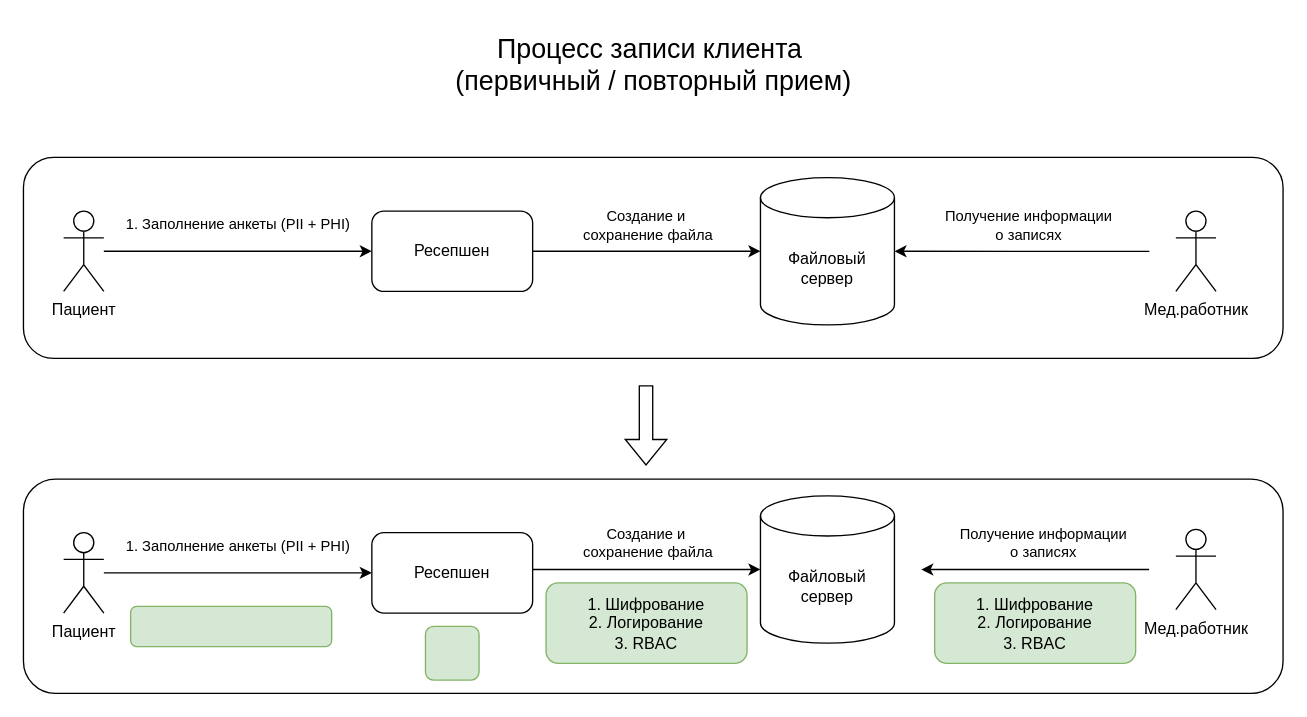
Some shapes in this 1307 by 717 pixel diagram are drawn without their labels. Here are the shapes that lost their labels. From the top down, the centre of each, then its label:
[230,626]: 1. Теги 2. Data Minimization
[451,652]: DLP
